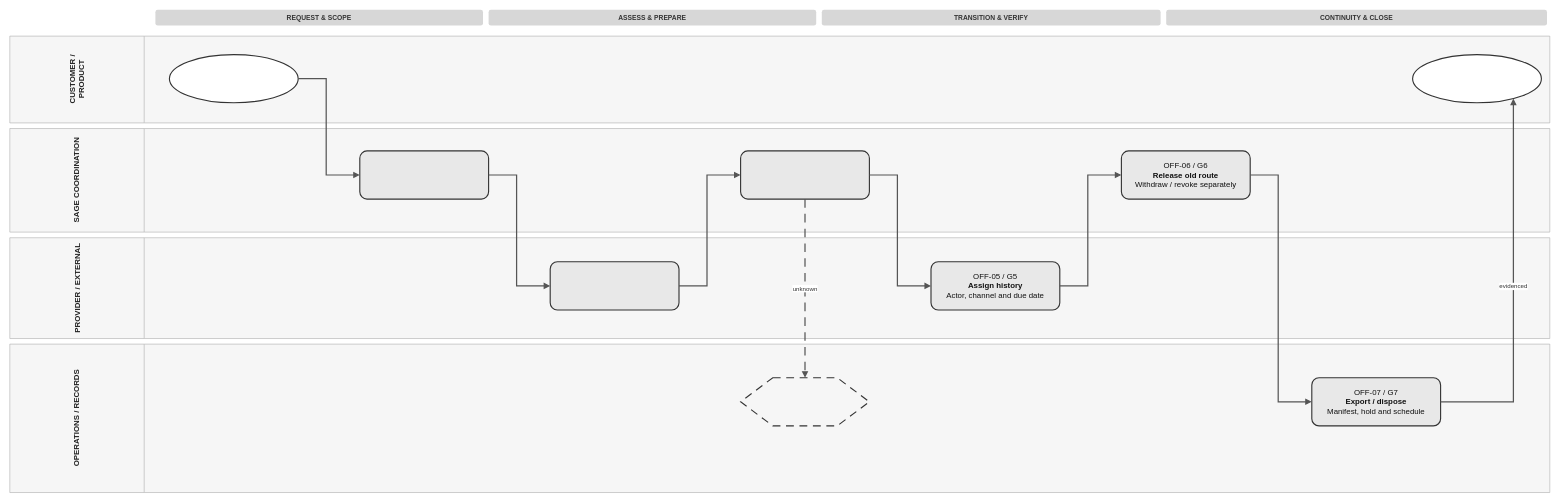
Some shapes in this 1560 by 502 pixel diagram are drawn without their labels. The centre of each missing label's shape, as x and y in pixels:
"END Close evidenced case Or remain release pending" goes at point 1477,78.
"OFF-01 / G1 Authorise exit Entity, direction, destination" goes at point 233,78.
"OFF-02 / G2 Inventory work Invoices, obligations, access" goes at point 424,174.
"OFF-03 / G3 Prove destination Inbound reachability if needed" goes at point 614,285.
"OFF-04 / G4 Cut over traffic Observed effective boundary" goes at point 805,174.
"OFF-08 Hold and reconcile Unknown / failed gate" goes at point 805,401.
